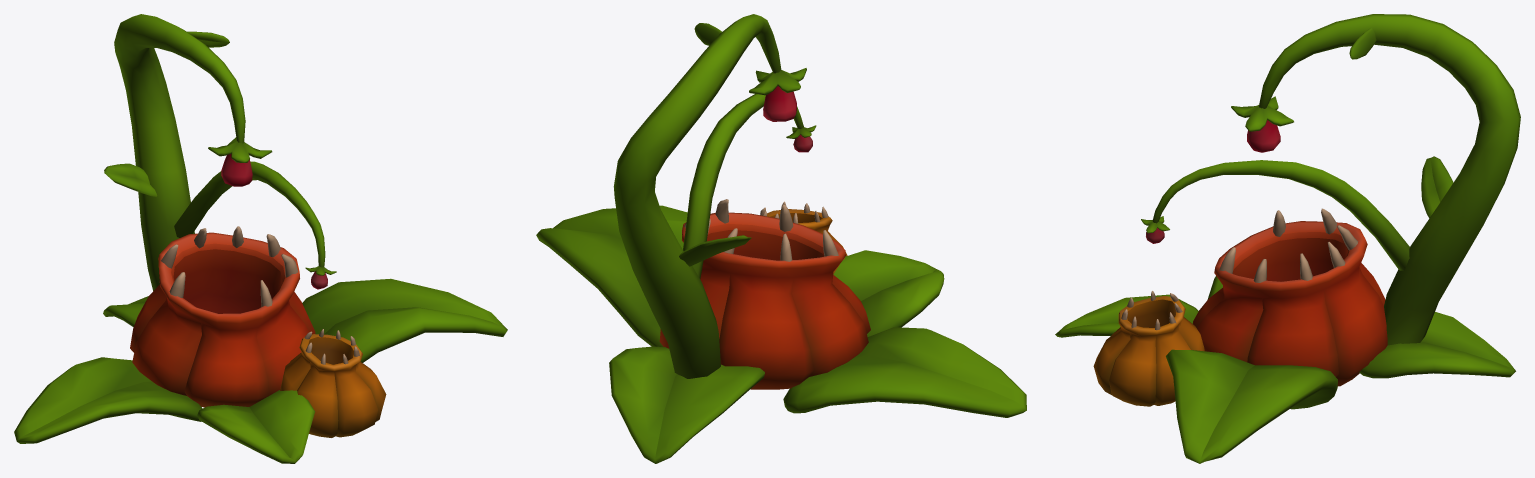
The model's file is Plant_12.fbx.
3 renders of one model, left to right at view 1: azimuth 30°, elevation 25°; view 2: azimuth 150°, elevation 25°; view 3: azimuth 270°, elevation 25°, orthographic. The views are drawn at different scales.
Visible parts, largest first — view 1: Plant_12; view 2: Plant_12; view 3: Plant_12.
Part boxes in pixels (x1,y1,x2,y2): Plant_12: (14,14,507,463); Plant_12: (536,14,1026,463); Plant_12: (1055,14,1520,463).
Size of the model in its own units: 6.13 by 4.32 by 5.11.
